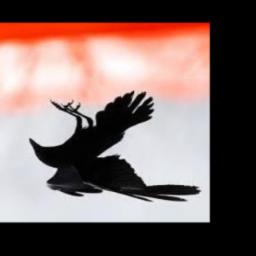Crow: (29, 91, 201, 204)
